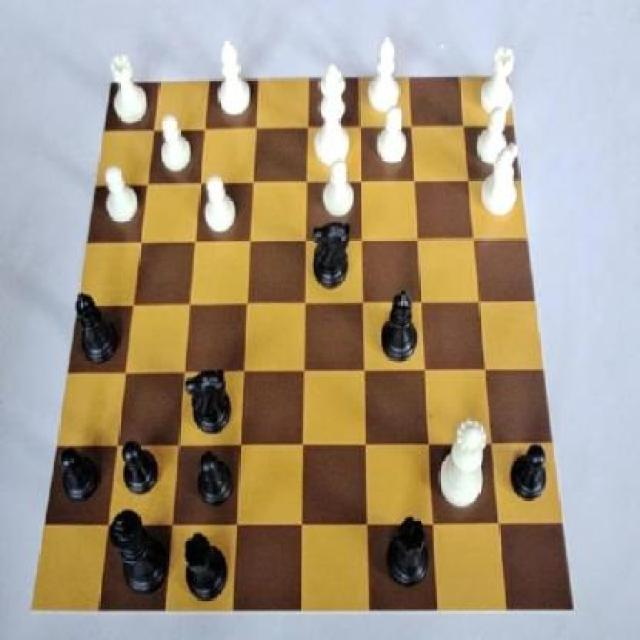bishop: (69, 286, 124, 374), (377, 288, 423, 367)
black-bishop: (103, 510, 172, 604)
black-king: (183, 359, 235, 443), (308, 214, 355, 299)
black-knight: (49, 443, 105, 514), (502, 443, 552, 514), (114, 436, 164, 500), (191, 443, 238, 509)
black-queen: (180, 529, 232, 616), (382, 516, 436, 596)
black-rook: (212, 34, 254, 120), (364, 31, 404, 119)
white-bishop: (312, 65, 358, 172)
white-king: (477, 137, 525, 223)
white-knight: (370, 103, 416, 171), (155, 115, 200, 184), (99, 163, 142, 235), (474, 103, 515, 175), (200, 175, 245, 238), (317, 155, 358, 223)
white-pawn: (434, 411, 491, 518)
white-queen: (475, 38, 521, 125), (106, 46, 150, 132)
